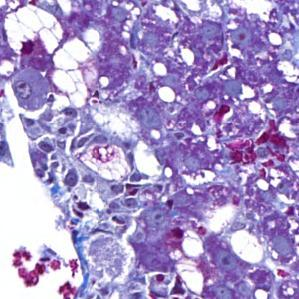ballooning: (49, 38, 100, 110), (5, 4, 65, 61), (170, 252, 206, 294)
